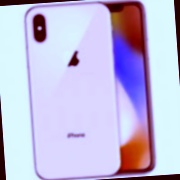iphone: (16, 0, 128, 180)
